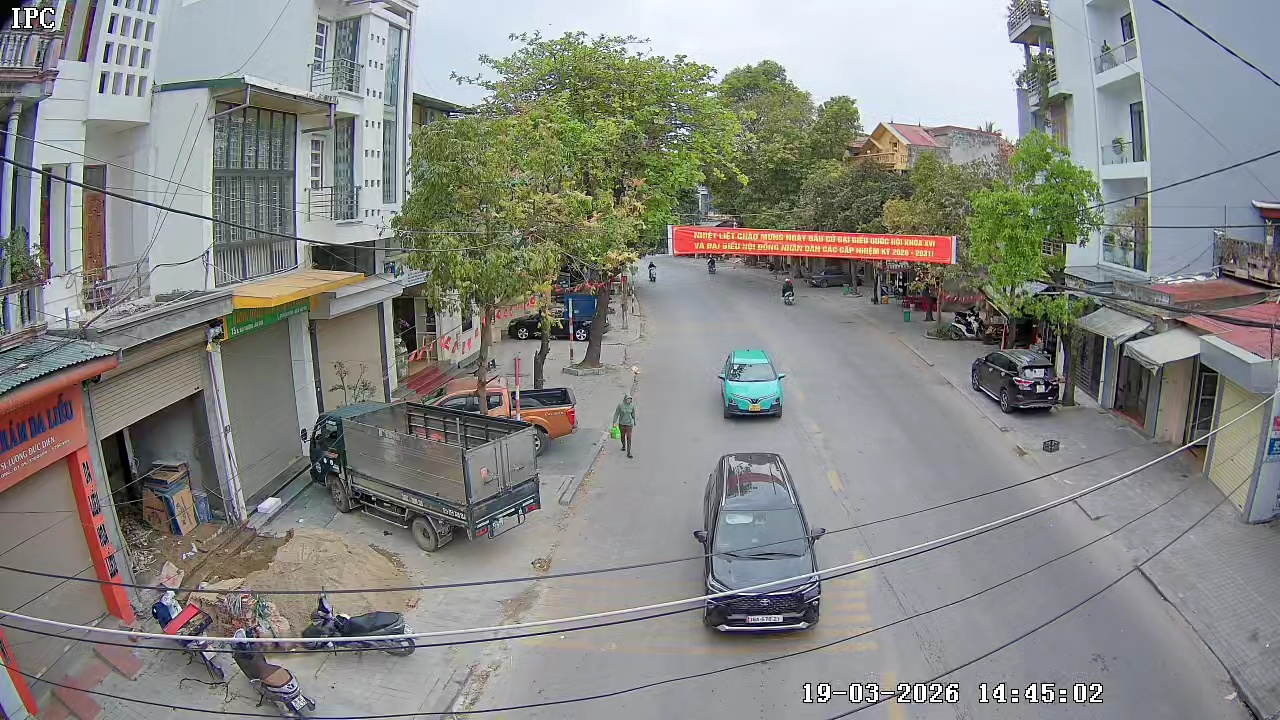car: (692, 449, 827, 636), (970, 347, 1060, 415), (716, 346, 788, 421), (511, 384, 577, 452)
motorbike: (781, 277, 795, 306)
pedestrian: (609, 391, 638, 459)
truck: (301, 393, 552, 578)
